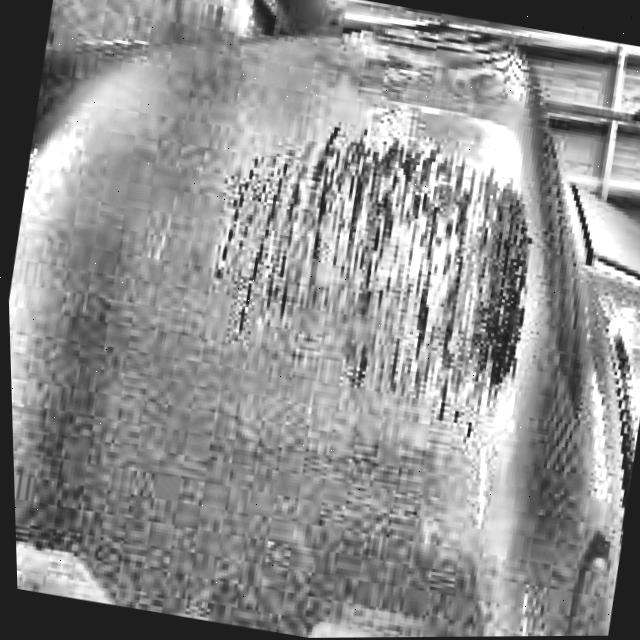bumper_scratch: (192, 105, 550, 422)
